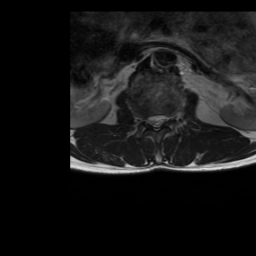CCS_normal: (153, 110, 159, 135)
LFS_stenosis: (166, 108, 173, 128)
LLS_normal: (159, 110, 166, 129)
RFS_stenosis: (140, 109, 147, 128)
RLS_normal: (147, 110, 153, 129)
